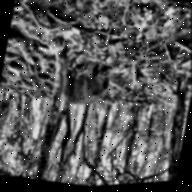boar: (38, 40, 119, 138)
